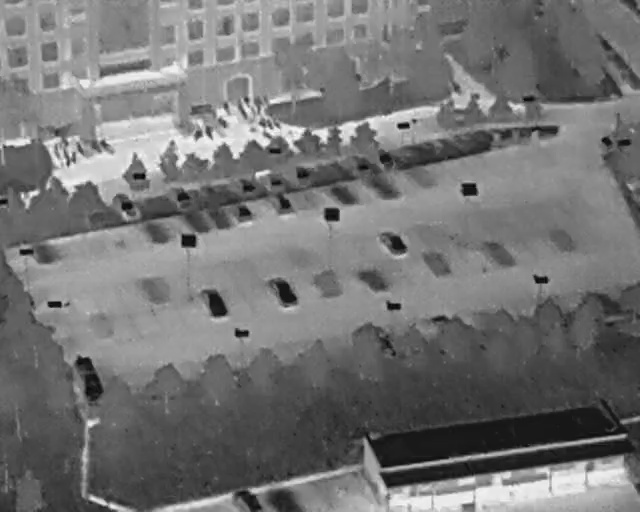Bicycle: (93, 133, 118, 159), (86, 135, 104, 157), (200, 122, 218, 144), (234, 98, 250, 121), (72, 137, 88, 158), (189, 126, 206, 145), (59, 148, 73, 169), (261, 116, 278, 133), (269, 116, 285, 134), (219, 99, 234, 118), (259, 128, 276, 144), (254, 115, 270, 131), (240, 94, 255, 110), (50, 141, 62, 160), (216, 116, 229, 131), (254, 97, 264, 114), (70, 151, 78, 165)
Car: (375, 222, 412, 264), (266, 271, 302, 313), (196, 281, 231, 322), (253, 162, 286, 196), (114, 195, 143, 226), (170, 186, 196, 213), (270, 188, 295, 216), (349, 149, 373, 177), (231, 488, 260, 511), (375, 145, 398, 172), (290, 161, 314, 186), (234, 174, 257, 197), (232, 199, 253, 222)
